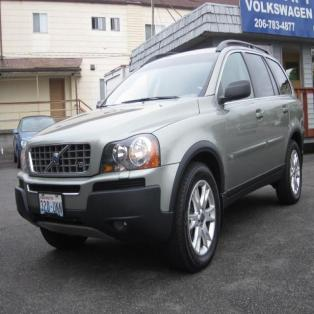Auto: (15, 40, 304, 270)
